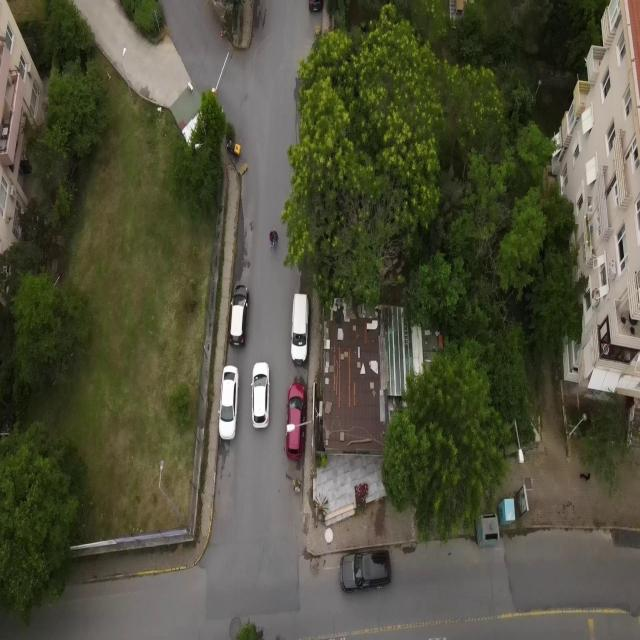p3rson: (269, 227, 274, 248), (274, 228, 279, 245)
